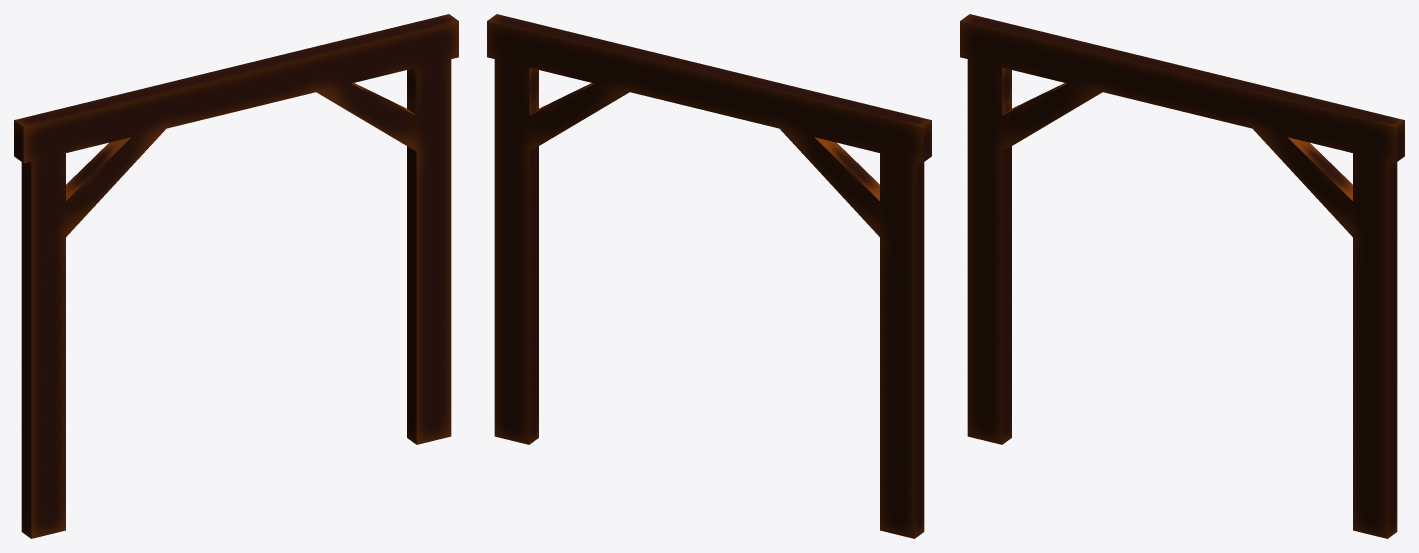
Rendered from Maderia_Entrada.004.fbx.
The picture shows the model from 3 angles, left to right: view 1: azimuth 30°, elevation 25°; view 2: azimuth 150°, elevation 25°; view 3: azimuth 330°, elevation 25°; orthographic projection.
Visible parts, largest first — view 1: Maderia_Entrada.004; view 2: Maderia_Entrada.004; view 3: Maderia_Entrada.004.
Boxes of the visible parts, box(x1,y1,x2,y2) form: Maderia_Entrada.004: box(14, 14, 458, 538); Maderia_Entrada.004: box(487, 14, 931, 538); Maderia_Entrada.004: box(960, 14, 1404, 538).
Size of the model in its own units: 974 by 885 by 37.62.
